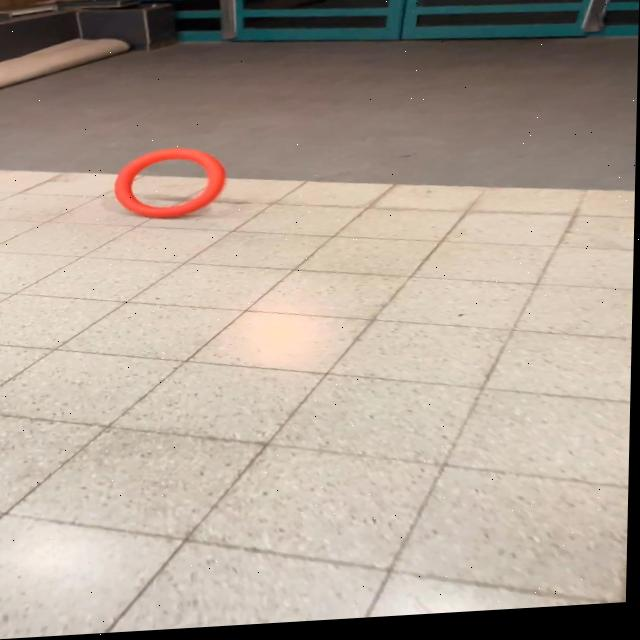note: (112, 146, 231, 225)
